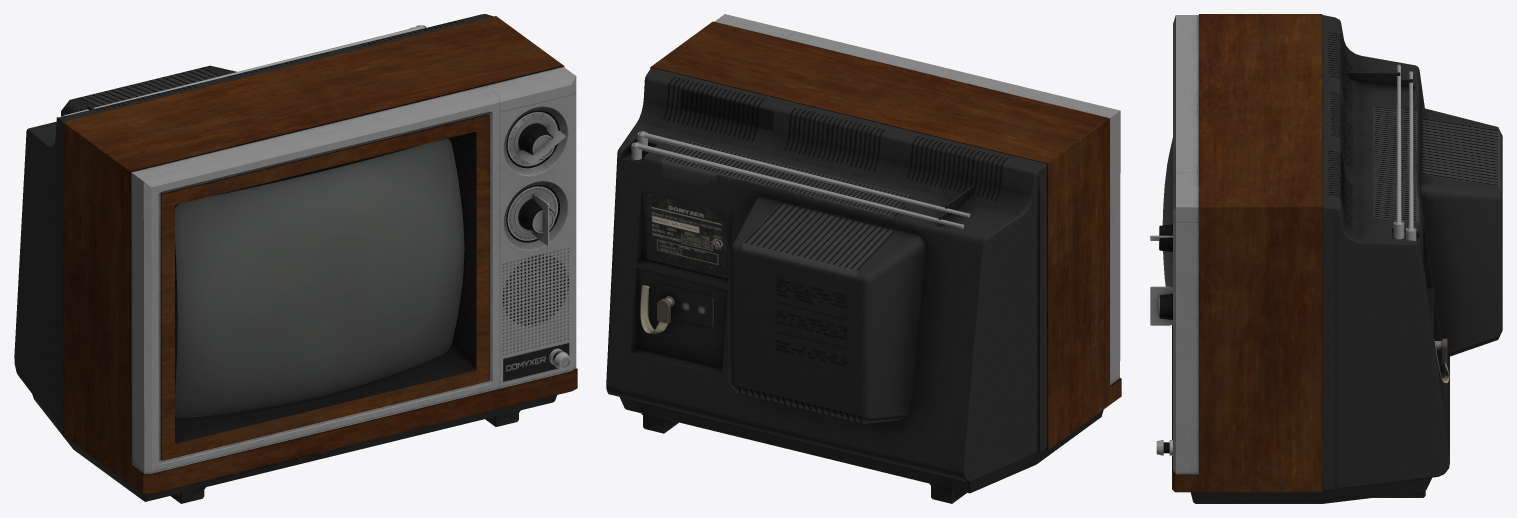
The picture shows the model from 3 angles, left to right: view 1: azimuth 30°, elevation 25°; view 2: azimuth 150°, elevation 25°; view 3: azimuth 270°, elevation 25°; orthographic projection. The views are drawn at different scales.
Parts seen in each view (by area): view 1: SM_TV80S_Domyxer_02_2; view 2: SM_TV80S_Domyxer_02_2; view 3: SM_TV80S_Domyxer_02_2.
Part boxes in pixels (<box>): SM_TV80S_Domyxer_02_2: <box>14,14,577,503</box>; SM_TV80S_Domyxer_02_2: <box>606,14,1121,503</box>; SM_TV80S_Domyxer_02_2: <box>1150,14,1502,503</box>.
Size of the model in its own units: 1.07 by 0.8112 by 0.8281.
Materials: 1 (1 with a texture image).
